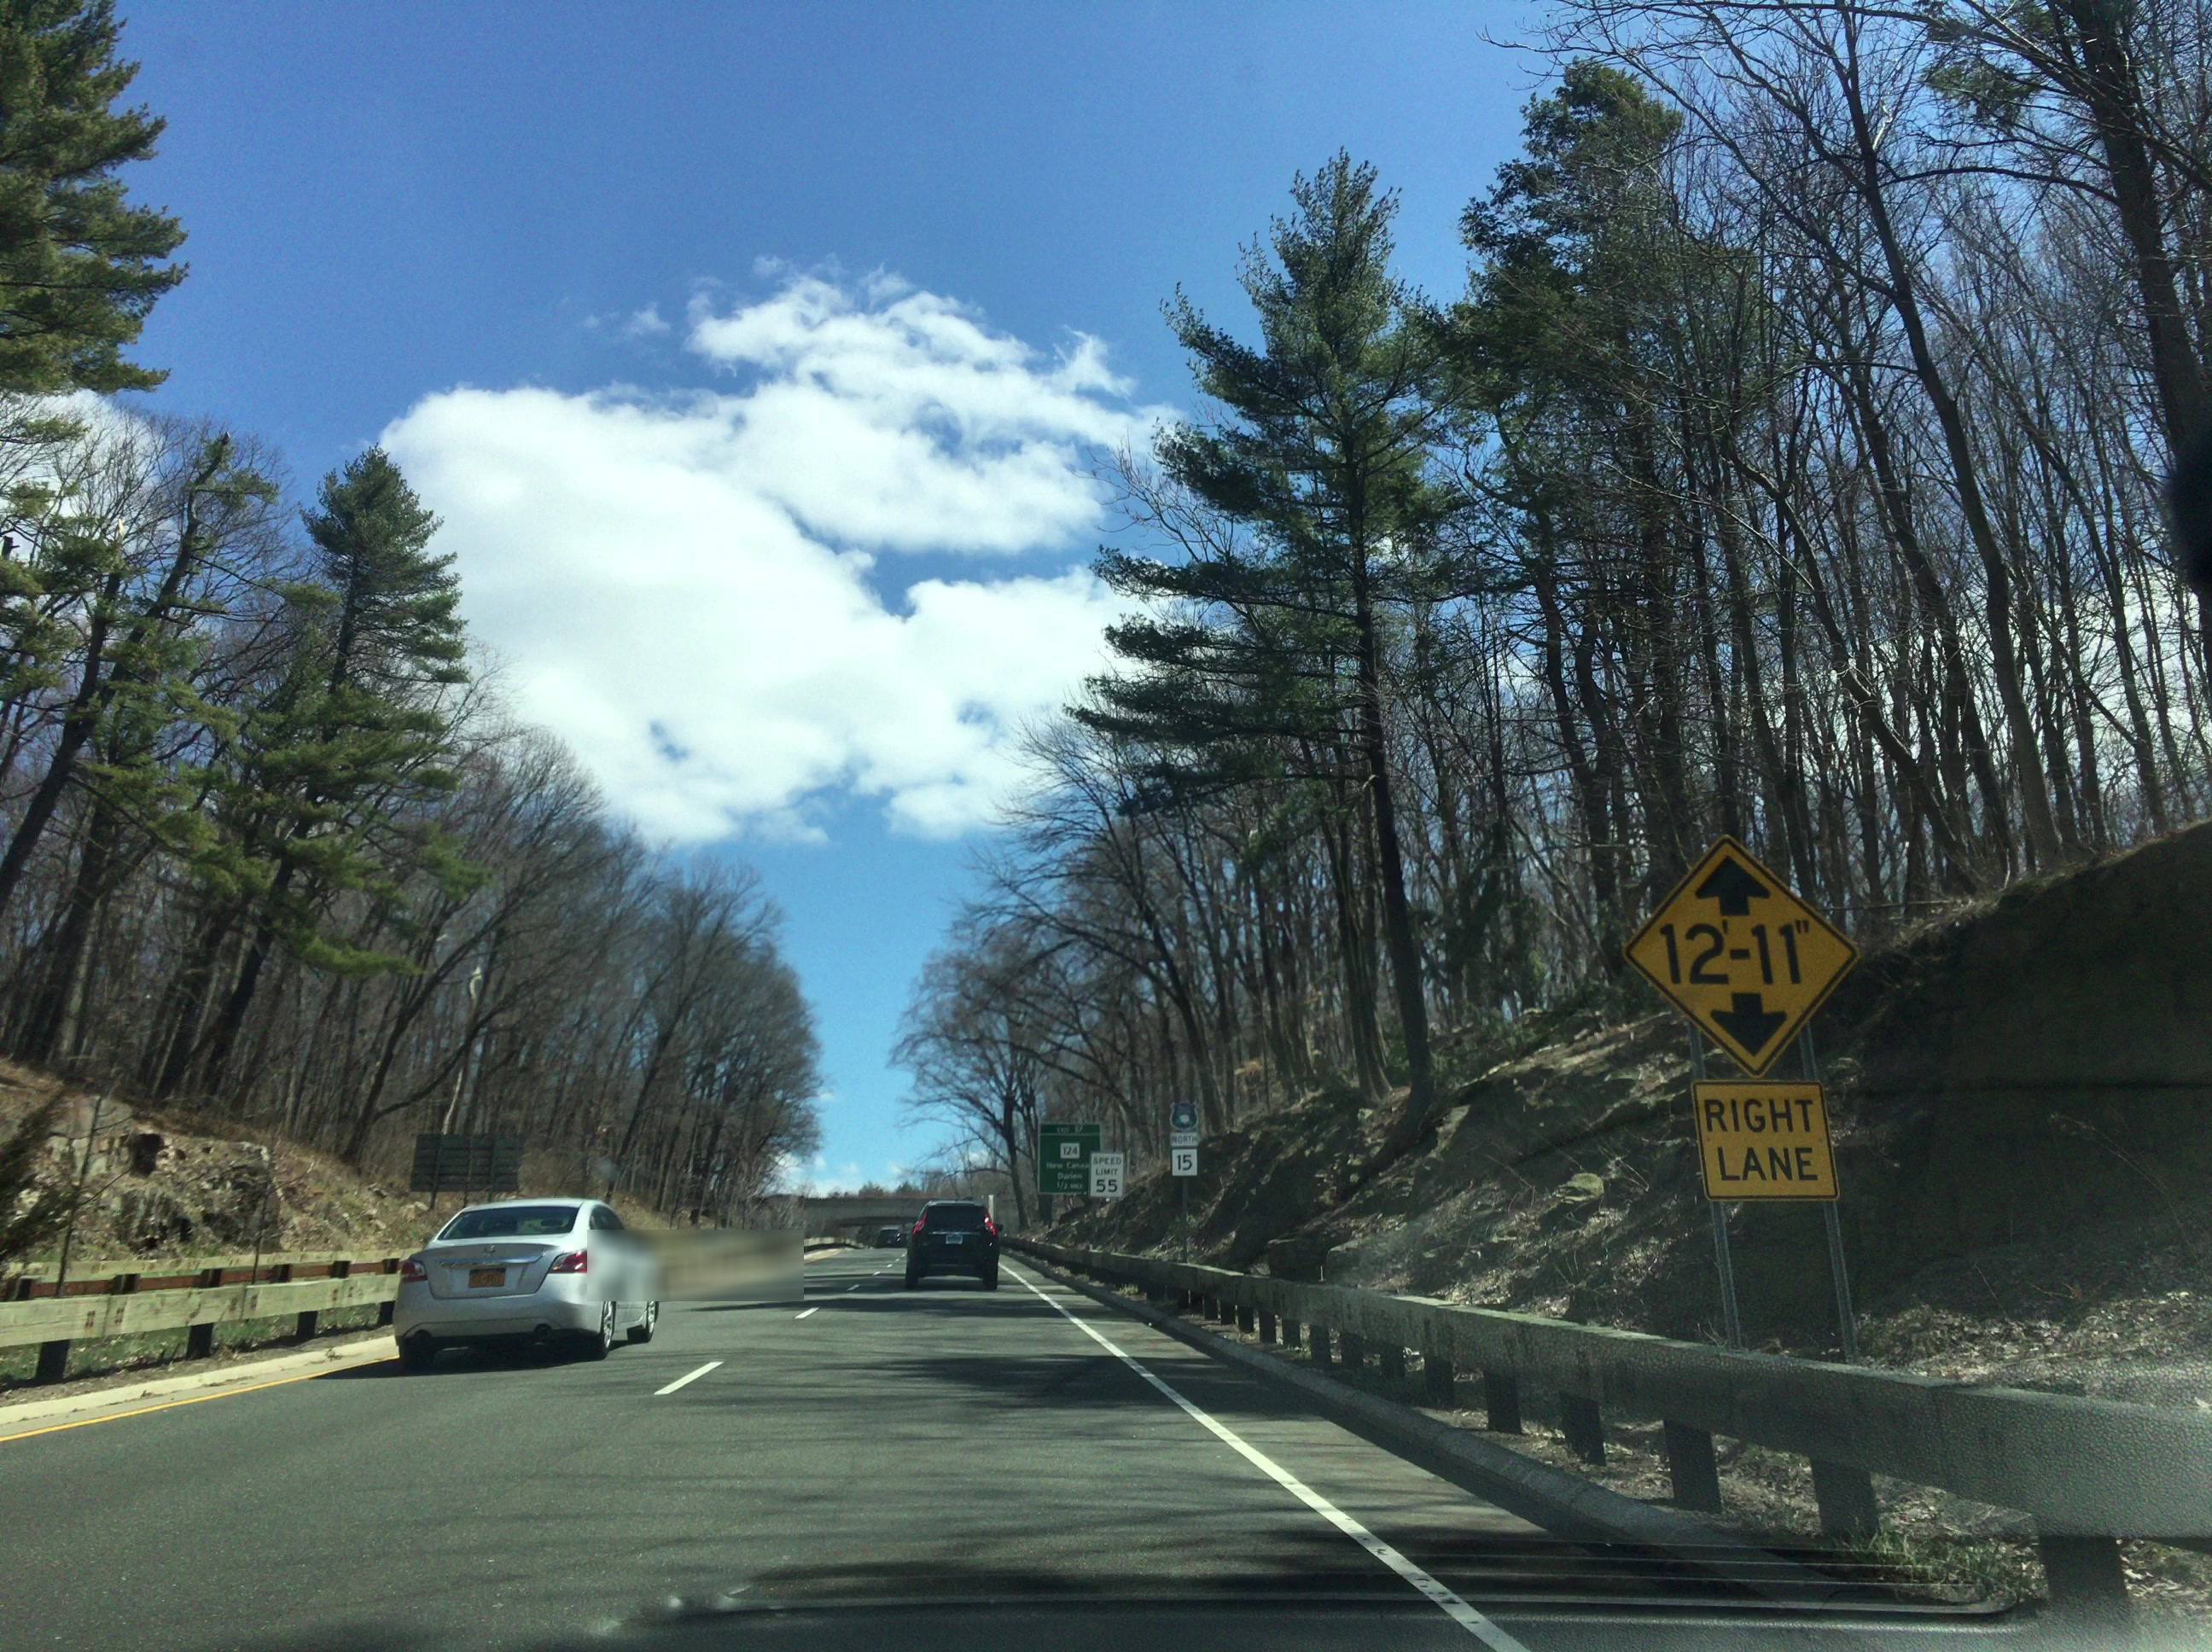low-clearance-sign: (1622, 833, 1862, 1079)
